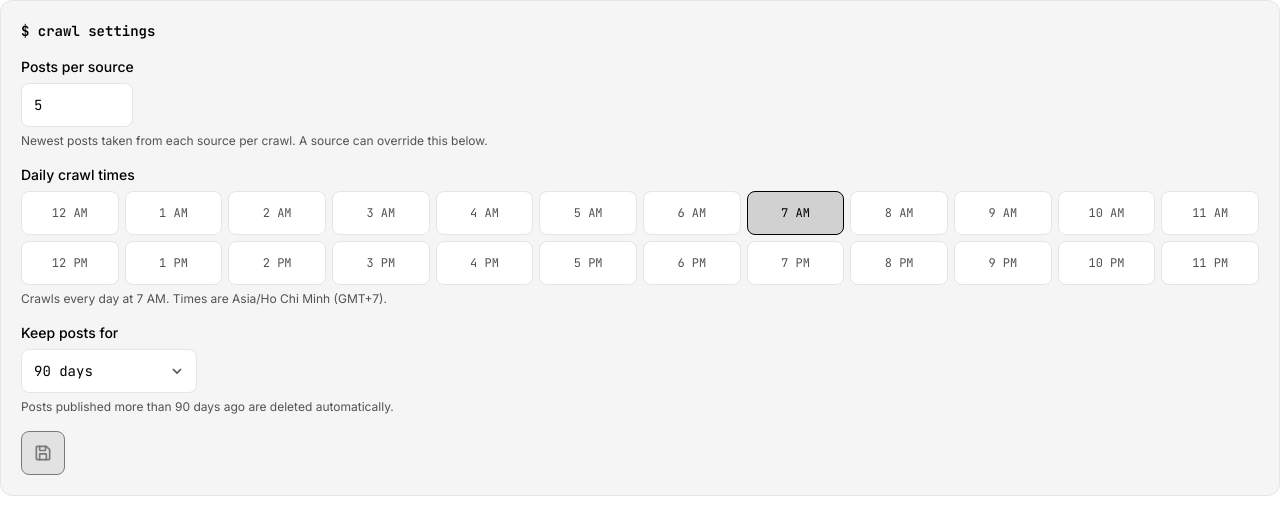
Test: CrawlSettingsPanel › edits retention, warning when it gets shorter
The width and height of the screenshot is (1280, 513).
Check: the text "more than 90 days ago are deleted" is shown, box [21,399,394,414]
Select "30 days" in the dropdown labelled "Keep posts for" at (109, 371), box [21,349,197,393]
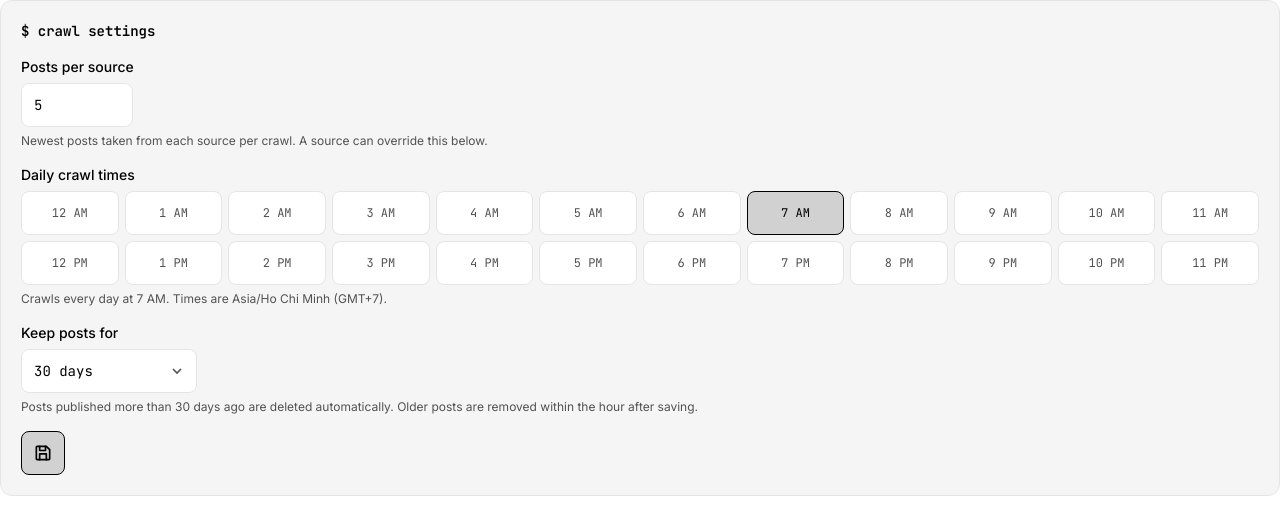
Check: the text "removed within the hour" is shown, box [21,399,698,414]
Select "Forever" in the dropdown labelled "Keep posts for" at (109, 371), box [21,349,197,393]
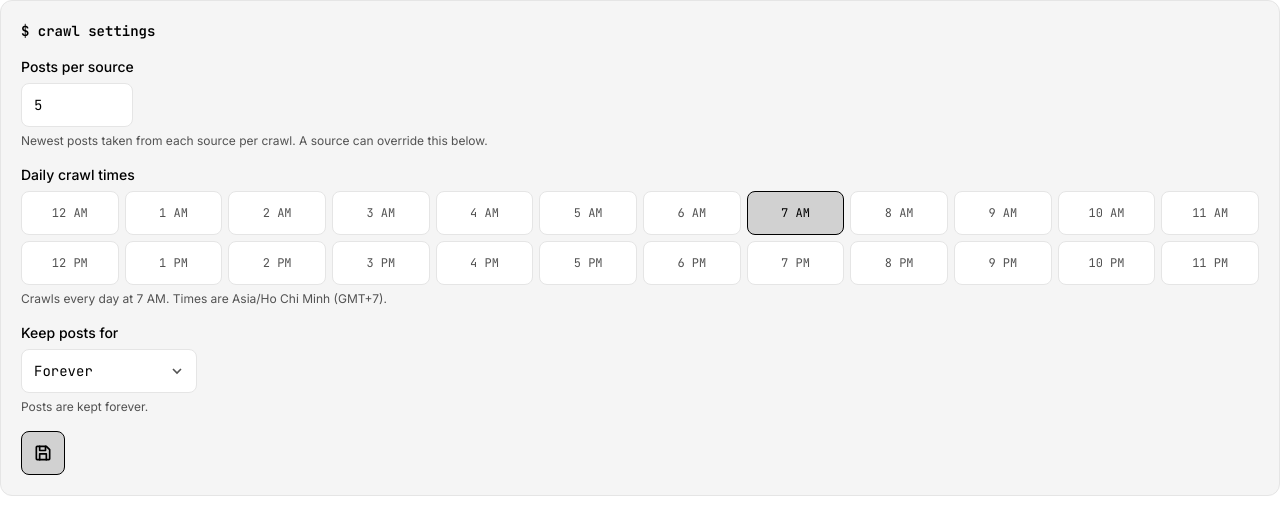
Check: the text "Posts are kept forever." is shown, box [21,399,148,414]
Click the button named "Save settings" at (43, 453), box [21,431,65,475]
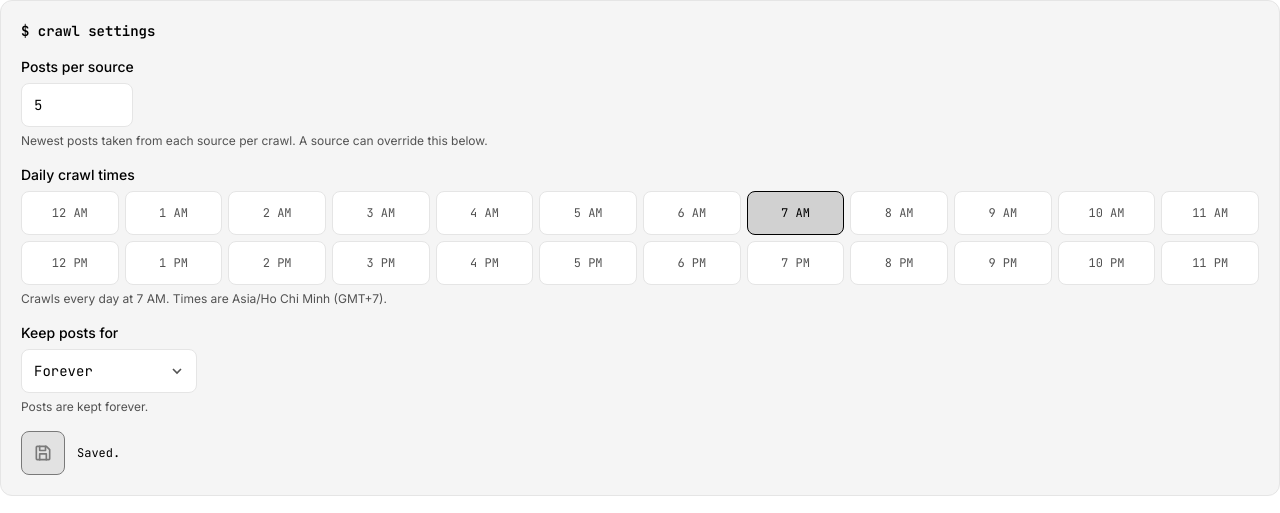
Check: the text "Saved." is shown, box [77,445,120,461]
